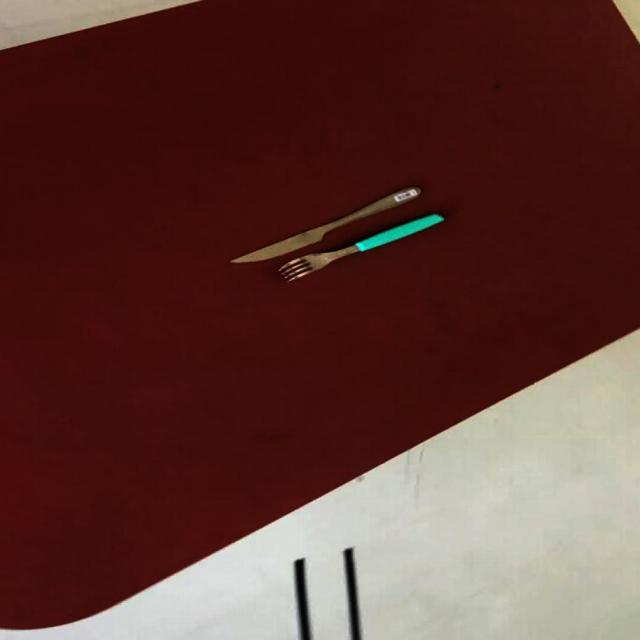Fork: (275, 212, 444, 282)
Knife: (227, 184, 422, 263)
